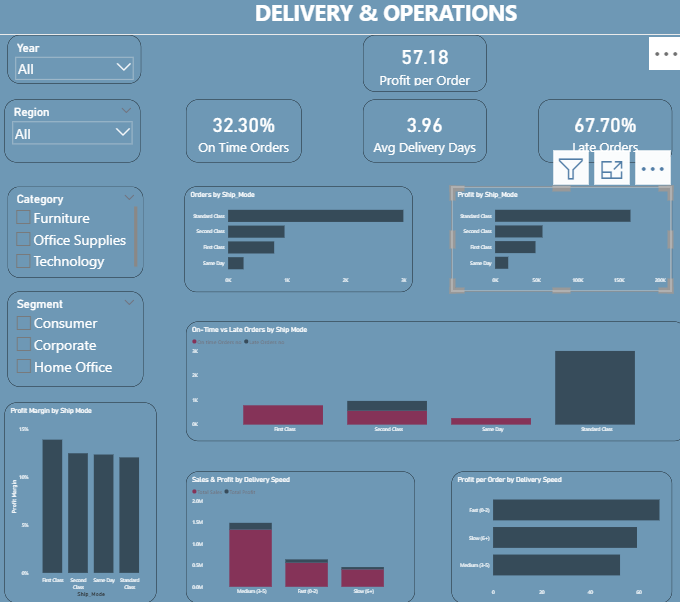

The page's visual inventory and layout, read from the dashboard file:
{"tool":"powerbi","page":{"name":"  DELIVERY & OPERATIONS","canvas":[1700,1500],"ordinal":3},"visuals":[{"type":"slicer","fields":{"Values":["DateTable.Year"]},"box":[25,95,330,120],"z":0},{"type":"slicer","fields":{"Values":["Superstore.Region"]},"box":[20,255,335,155],"z":1000},{"type":"slicer","fields":{"Values":["Superstore.Category"]},"box":[25,470,335,225],"z":2000},{"type":"card","fields":{"Values":["DateTable.Avg Delivery Days"]},"box":[902.5,255,305,155],"z":3000},{"type":"card","fields":{"Values":["DateTable.Late Orders"]},"box":[1337.5,255,330,155],"z":4000},{"type":"card","fields":{"Values":["DateTable.On Time Orders"]},"box":[465,255,285,155],"z":5000},{"type":"card","fields":{"Values":["DateTable.Profit per Order"]},"box":[902.5,95,305,140],"z":6000},{"type":"barChart","title":"Orders by Ship_Mode","fields":{"Y":["DateTable.Total Orders"],"Category":["Superstore.Ship_Mode"]},"box":[463.6,469.7,563.6,260.6],"z":7000},{"type":"barChart","title":"Profit by Ship_Mode","fields":{"Category":["Superstore.Ship_Mode"],"Y":["DateTable.Total Profit"]},"box":[1122.2,470.4,544.4,259.3],"z":8000},{"type":"columnChart","title":"On-Time vs Late Orders by Ship Mode","fields":{"Category":["Superstore.Ship_Mode"],"Y":["DateTable.On time Orders no","DateTable.Late Orders no"]},"box":[465,805,1235,295],"z":9000},{"type":"columnChart","title":"Sales & Profit by Delivery Speed","fields":{"Category":["Superstore.Delivery Bucket"],"Y":["Superstore.Total Sales","DateTable.Total Profit"]},"box":[465,1175,565,325],"z":10000},{"type":"barChart","title":"Profit per Order by Delivery Speed","fields":{"Category":["Superstore.Delivery Bucket"],"Y":["DateTable.Profit per Order"]},"box":[1122.2,1174.1,544.4,325.9],"z":11000},{"type":"slicer","fields":{"Values":["Superstore.Segment"]},"box":[25,730,335,235],"z":12000},{"type":"columnChart","title":"Profit Margin by Ship Mode","fields":{"Category":["Superstore.Ship_Mode"],"Y":["DateTable.Profit Margin"]},"box":[20,1005,375,495],"z":13000},{"type":"textbox","box":[0,0,1700,95],"z":14000}]}

Visuals, with their boxes in screenshot pixels (x1, y1, x2, y2), scaled from the page's 1700x1500 canvas onto the 680x602 screenshot:
slicer - DateTable.Year: 10,38,142,86
slicer - Superstore.Region: 8,102,142,165
slicer - Superstore.Category: 10,189,144,279
card - DateTable.Avg Delivery Days: 361,102,483,165
card - DateTable.Late Orders: 535,102,667,165
card - DateTable.On Time Orders: 186,102,300,165
card - DateTable.Profit per Order: 361,38,483,94
"Orders by Ship_Mode" barChart: 185,189,411,293
"Profit by Ship_Mode" barChart: 449,189,667,293
"On-Time vs Late Orders by Ship Mode" columnChart: 186,323,679,441
"Sales & Profit by Delivery Speed" columnChart: 186,472,412,601
"Profit per Order by Delivery Speed" barChart: 449,471,667,601
slicer - Superstore.Segment: 10,293,144,387
"Profit Margin by Ship Mode" columnChart: 8,403,158,601
textbox: 0,0,679,38
